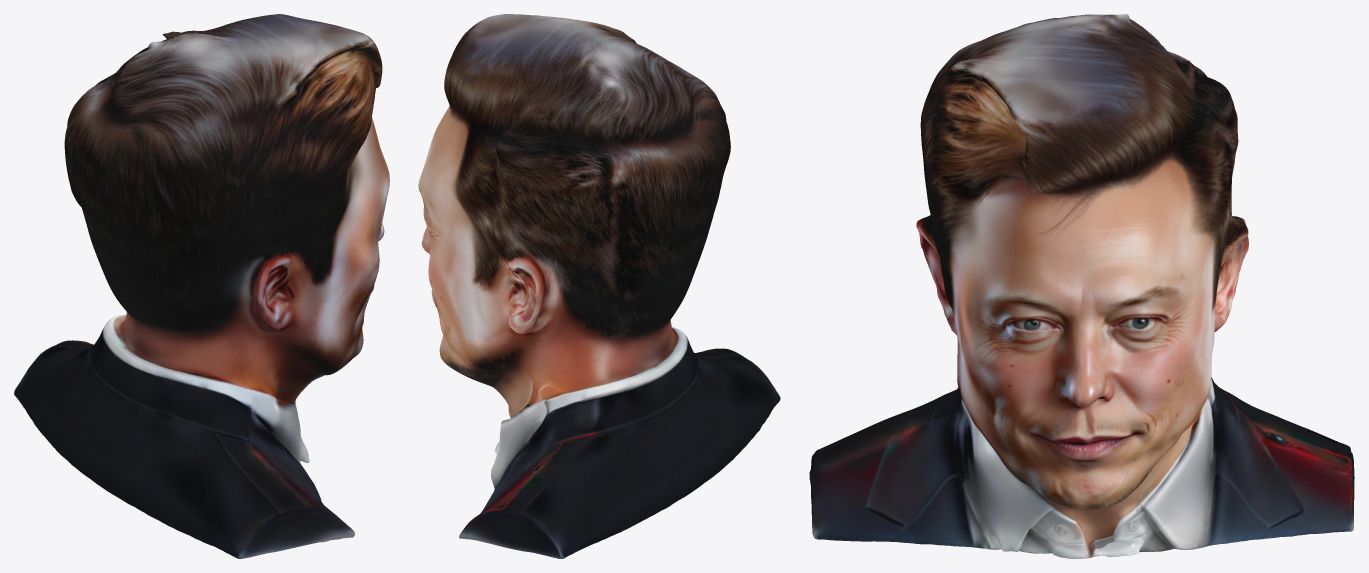
The model's file is elon-musk.glb.
3 views of the same model, side by side, from view 1: azimuth 30°, elevation 25°; view 2: azimuth 150°, elevation 25°; view 3: azimuth 270°, elevation 25° (orthographic). The views are drawn at different scales.
Visible parts, largest first — view 1: tripo_node_3345eec1-40d3-464a-86ff-74b446540dcc_0; view 2: tripo_node_3345eec1-40d3-464a-86ff-74b446540dcc_0; view 3: tripo_node_3345eec1-40d3-464a-86ff-74b446540dcc_0.
Boxes of the visible parts, x1,y1,x2,y2 form: tripo_node_3345eec1-40d3-464a-86ff-74b446540dcc_0: [14, 14, 389, 558]; tripo_node_3345eec1-40d3-464a-86ff-74b446540dcc_0: [418, 14, 780, 558]; tripo_node_3345eec1-40d3-464a-86ff-74b446540dcc_0: [809, 14, 1354, 558].
Bounding box in the file's own units: 0.5053 × 0.7 × 0.6931.
Materials: 1 (1 with a texture image).
